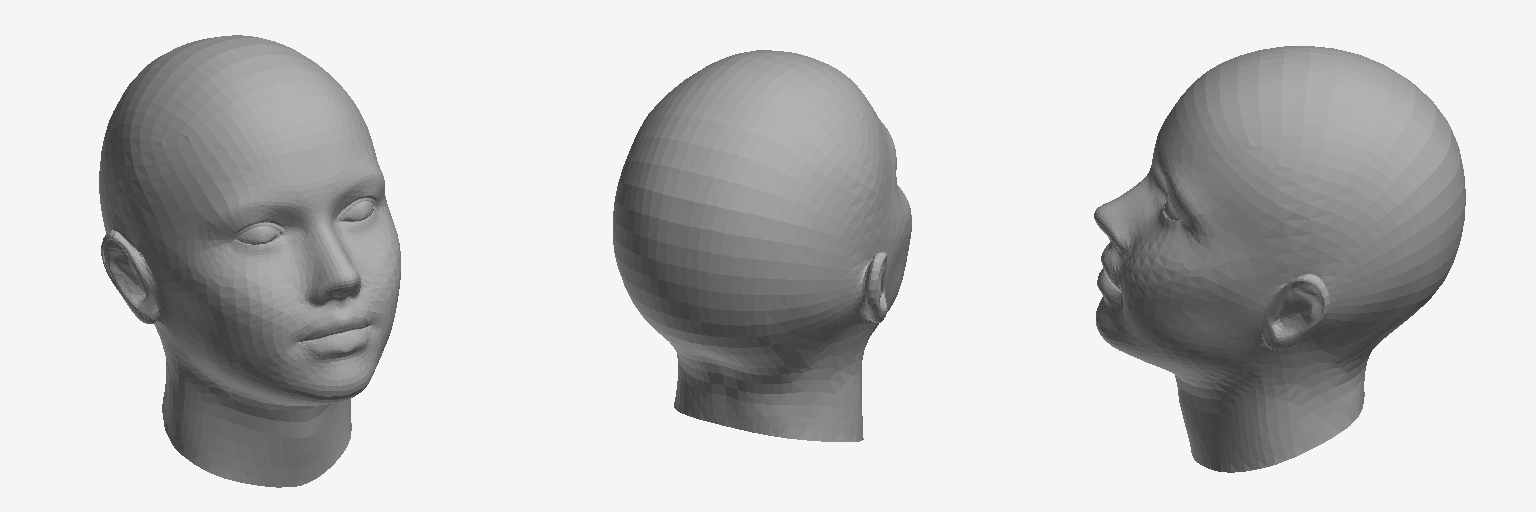
The model's file is ModelsFace.obj.
3 renders of one model, left to right at view 1: azimuth 30°, elevation 25°; view 2: azimuth 150°, elevation 25°; view 3: azimuth 270°, elevation 25°, orthographic.
Visible parts, largest first — view 1: FaceGen; view 2: FaceGen; view 3: FaceGen.
Boxes of the visible parts, box(x1,y1,x2,y2) form: FaceGen: box(99, 35, 400, 487); FaceGen: box(613, 50, 911, 441); FaceGen: box(1094, 46, 1465, 472).
Size of the model in its own units: 198 by 283 by 241.